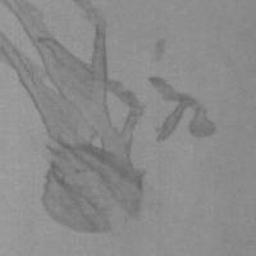Water spot: (0, 0, 148, 234), (147, 76, 218, 143)
